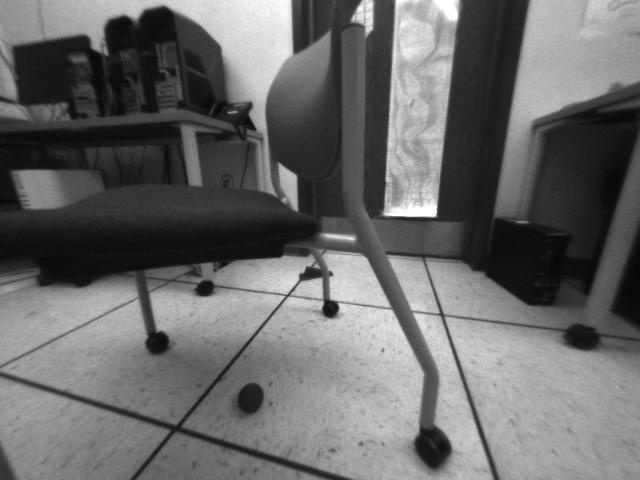dogtoy: (229, 377, 275, 419)
